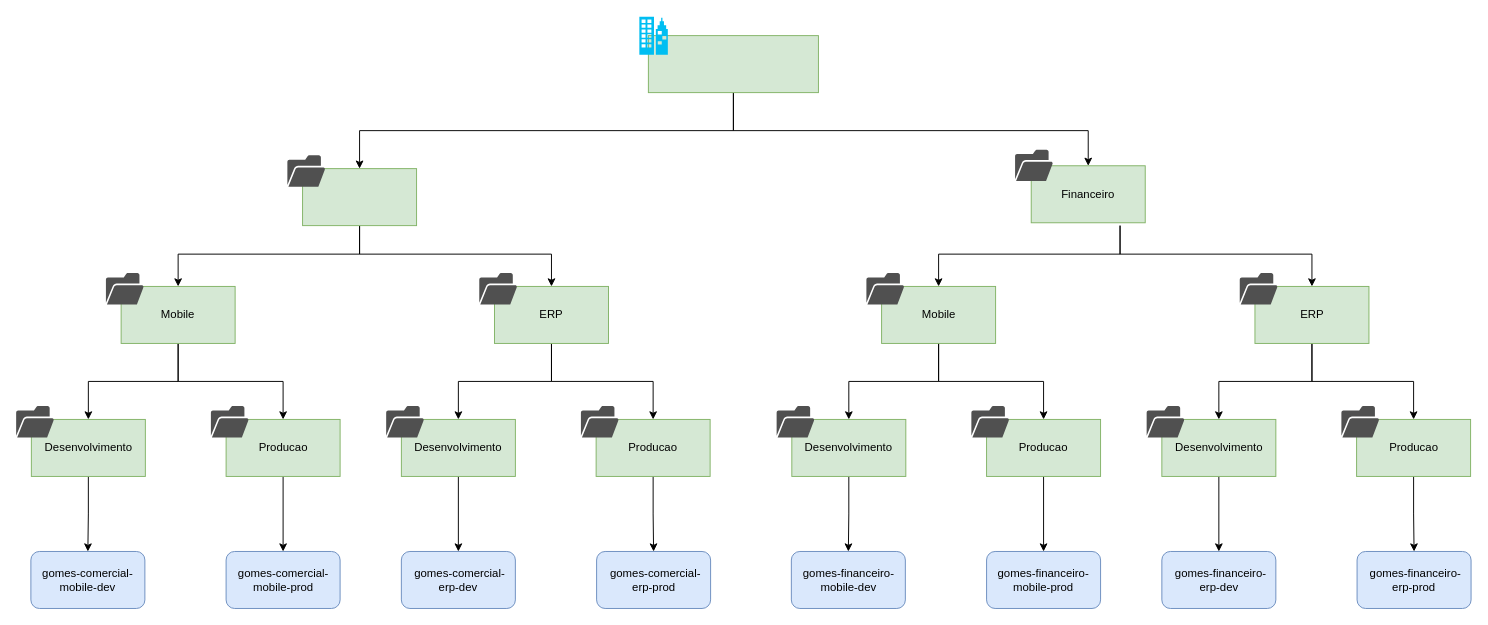
Image size: 1488x625. Some labels were removed from this diagram. Here are the shapes that lost their labels. From the top down, the box of each, then its label:
(647, 35, 818, 93): GomesEnterprise
(302, 168, 417, 226): Comercial
